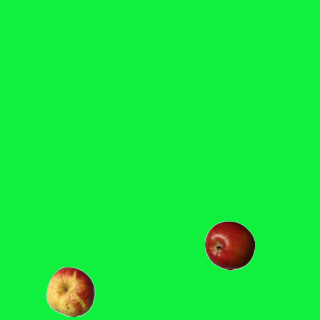Apple Braeburn: (204, 220, 254, 270)
Apple Red Yellow 1: (45, 266, 95, 316)
